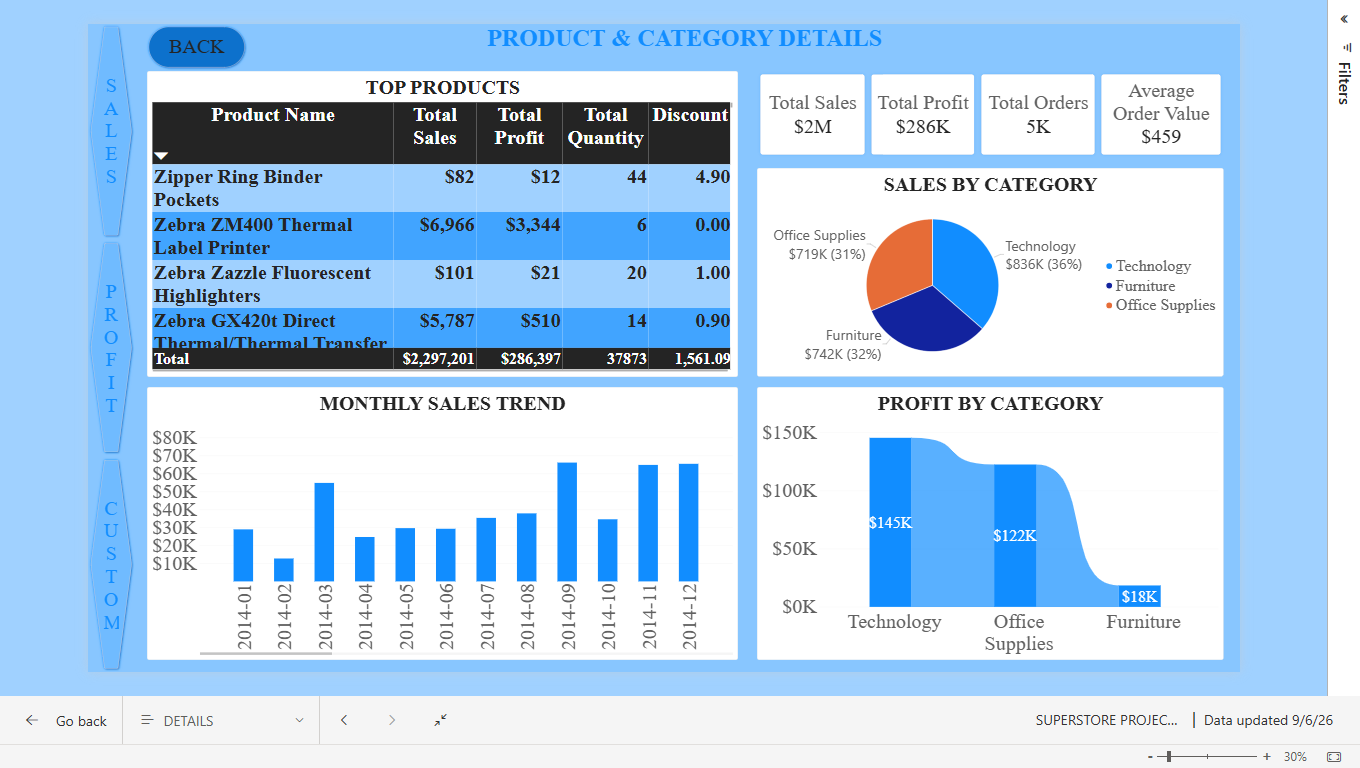

The dashboard page shown, as its layout file describes it:
{"tool":"powerbi","page":{"name":" DETAILS","canvas":[3840,2160],"ordinal":3},"visuals":[{"type":"actionButton","box":[193.2,0,338,153.7],"z":0},{"type":"cardVisual","fields":{"Data":["Date.Total Sales"]},"box":[2230,155,370,290],"z":1000},{"type":"cardVisual","fields":{"Data":["Date.Total Profit"]},"box":[2600,155,365,290],"z":2000},{"type":"cardVisual","fields":{"Data":["Date.Total Orders"]},"box":[2965,155,400,290],"z":3000},{"type":"cardVisual","fields":{"Data":["Date.Average Order Value"]},"box":[3365,155,420,290],"z":4000},{"type":"tableEx","title":"TOP PRODUCTS","fields":{"Values":["Sample - Superstore.Product Name","Date.Total Sales","Date.Total Profit","Date.Total Quantity","Sum(Sample - Superstore.Discount)"]},"box":[195,155,1970,1020],"z":5000},{"type":"lineStackedColumnComboChart","title":"MONTHLY SALES TREND","fields":{"Category":["Date.Year Month"],"Y":["Date.Total Sales"]},"box":[195,1210,1970,910],"z":6000},{"type":"textbox","box":[193.2,0,3591.2,153.7],"z":7000},{"type":"pieChart","title":"SALES BY CATEGORY","fields":{"Category":["Sample - Superstore.Category"],"Y":["Date.Total Sales"]},"box":[2230,480,1555,695],"z":8000},{"type":"ribbonChart","title":"PROFIT BY CATEGORY","fields":{"Category":["Sample - Superstore.Category"],"Y":["Date.Total Profit"]},"box":[2230,1210,1555,910],"z":9000},{"type":"pageNavigator","box":[0,0,155,2160],"z":10000}]}

Visuals, with their boxes on the page's 3840x2160 design canvas (x1, y1, x2, y2). These are canvas units, not pixel positions in the 1360x768 screenshot, which may show the page scaled, cropped or inside an application window:
actionButton: 193:0:531:154
cardVisual - Date.Total Sales: 2230:155:2600:445
cardVisual - Date.Total Profit: 2600:155:2965:445
cardVisual - Date.Total Orders: 2965:155:3365:445
cardVisual - Date.Average Order Value: 3365:155:3785:445
"TOP PRODUCTS" tableEx: 195:155:2165:1175
"MONTHLY SALES TREND" lineStackedColumnComboChart: 195:1210:2165:2120
textbox: 193:0:3784:154
"SALES BY CATEGORY" pieChart: 2230:480:3785:1175
"PROFIT BY CATEGORY" ribbonChart: 2230:1210:3785:2120
pageNavigator: 0:0:155:2160
